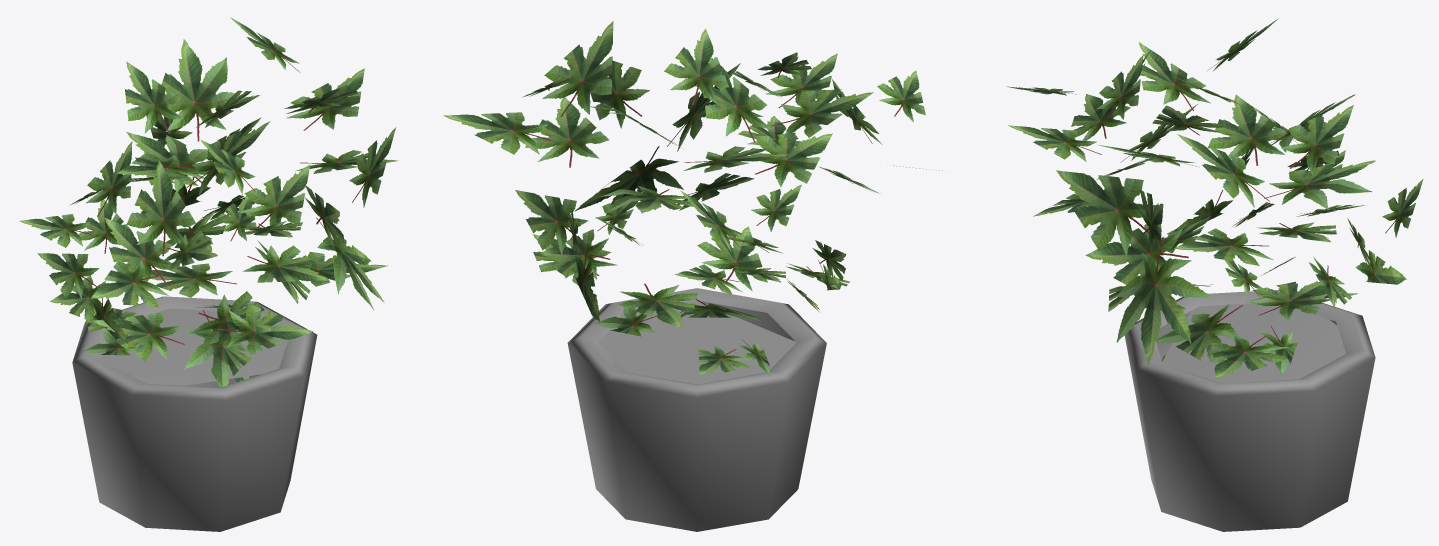
Rendered from Fern_lod22.fbx.
3 renders of one model, left to right at view 1: azimuth 30°, elevation 25°; view 2: azimuth 150°, elevation 25°; view 3: azimuth 270°, elevation 25°, orthographic. The views are drawn at different scales.
Visible parts, largest first — view 1: Fern_lod22; view 2: Fern_lod22; view 3: Fern_lod22.
Part boxes in pixels (left/top/right/bottom): Fern_lod22: left=19, top=17, right=398, bottom=531; Fern_lod22: left=443, top=21, right=942, bottom=531; Fern_lod22: left=1006, top=18, right=1423, bottom=531.
Size of the model in its own units: 56.07 by 59.21 by 49.82.
2 materials, 1 textured.
